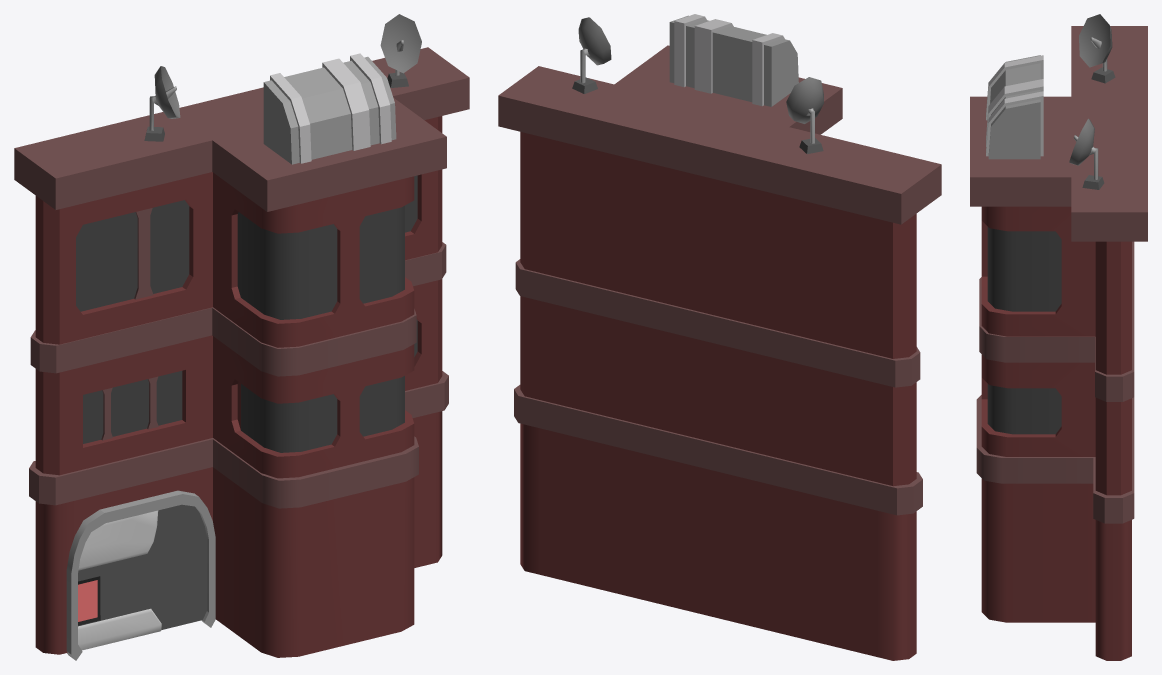
File: NorthEast_House_01.fbx
3 views of the same model, side by side, from view 1: azimuth 30°, elevation 25°; view 2: azimuth 150°, elevation 25°; view 3: azimuth 270°, elevation 25° (orthographic). The views are drawn at different scales.
Parts seen in each view (by area): view 1: NorthEast_House_01; view 2: NorthEast_House_01; view 3: NorthEast_House_01.
Part boxes in pixels (x1,y1,x2,y2): NorthEast_House_01: [14, 14, 469, 660]; NorthEast_House_01: [498, 14, 941, 660]; NorthEast_House_01: [970, 14, 1147, 660].
Size of the model in its own units: 30.9 by 40.5 by 12.46.
